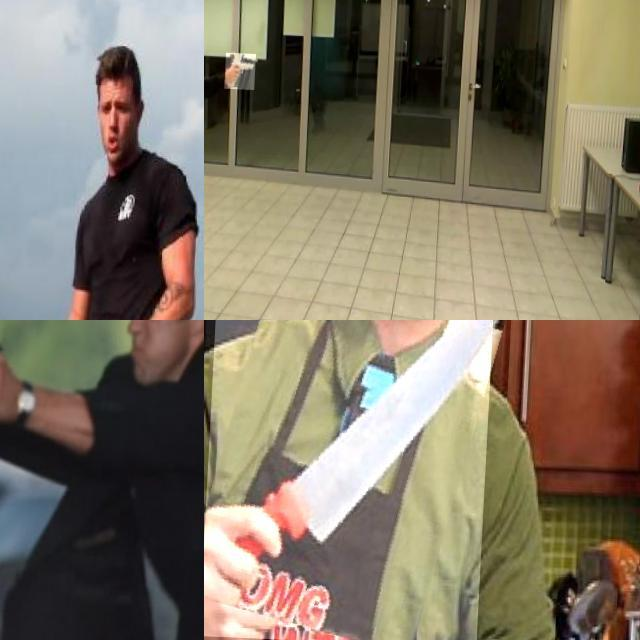-: (205, 320, 498, 640)
gun-knife-thesis - v11 Yolov5 augmented: (0, 320, 54, 414), (0, 320, 63, 397), (228, 51, 260, 88)
